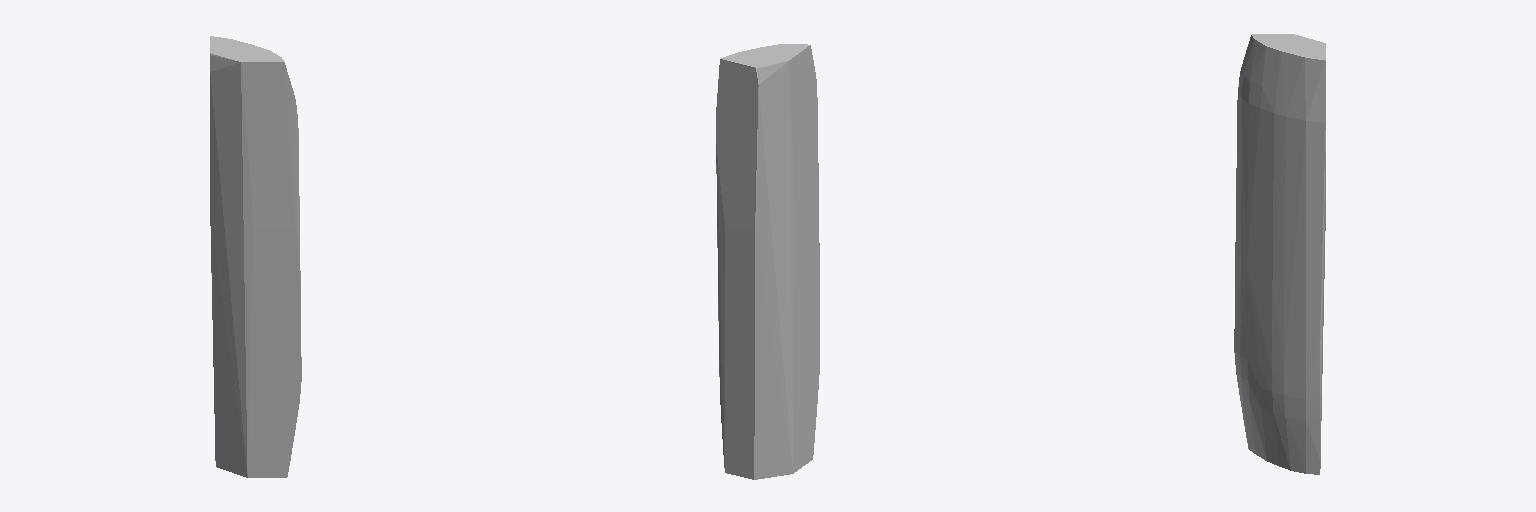
Rendered from phantom-elastrat_collision_360.obj.
The picture shows the model from 3 angles: view 1: azimuth 90°, elevation 25°; view 2: azimuth 150°, elevation 25°; view 3: azimuth 270°, elevation 25°; orthographic projection.
Size of the model in its own units: 0.0033 by 0.0224 by 0.0045.